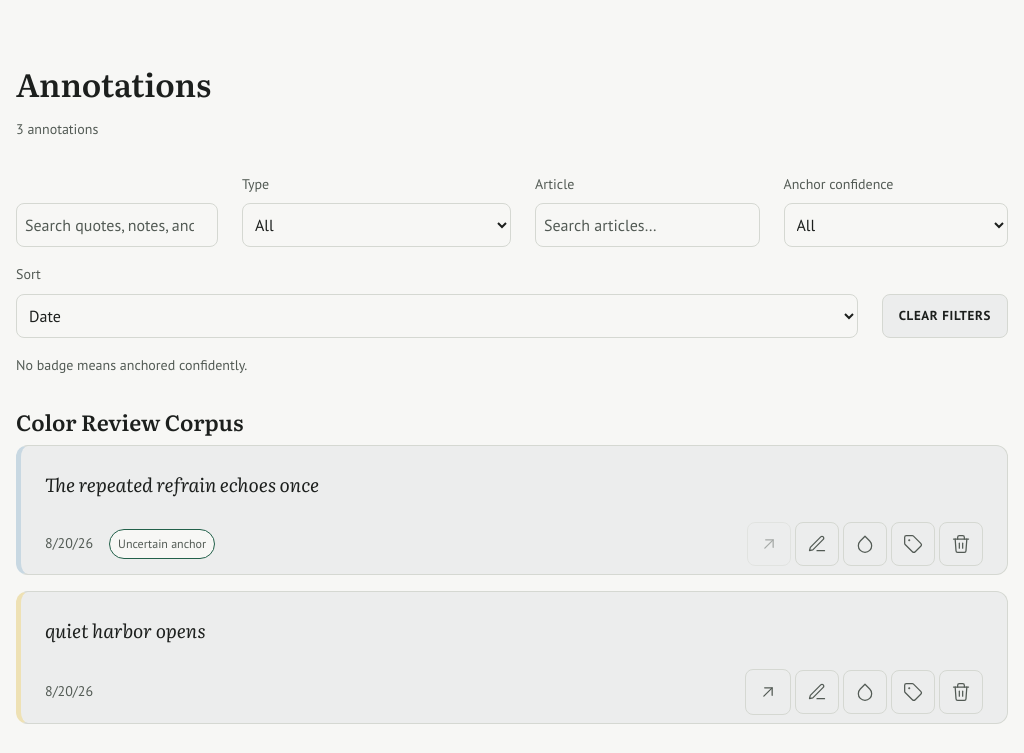
Test: ReviewView highlight colors (issue #119) › Change color opens the SAME slot-pills row: five action buttons, no radios, no current state
What coordinates should you click on to do the following:
click the button named "Change color, currently Blue: The repeated refrain echoes on"
I would click on:
 (865, 544)
Its box is [843,522,887,566].
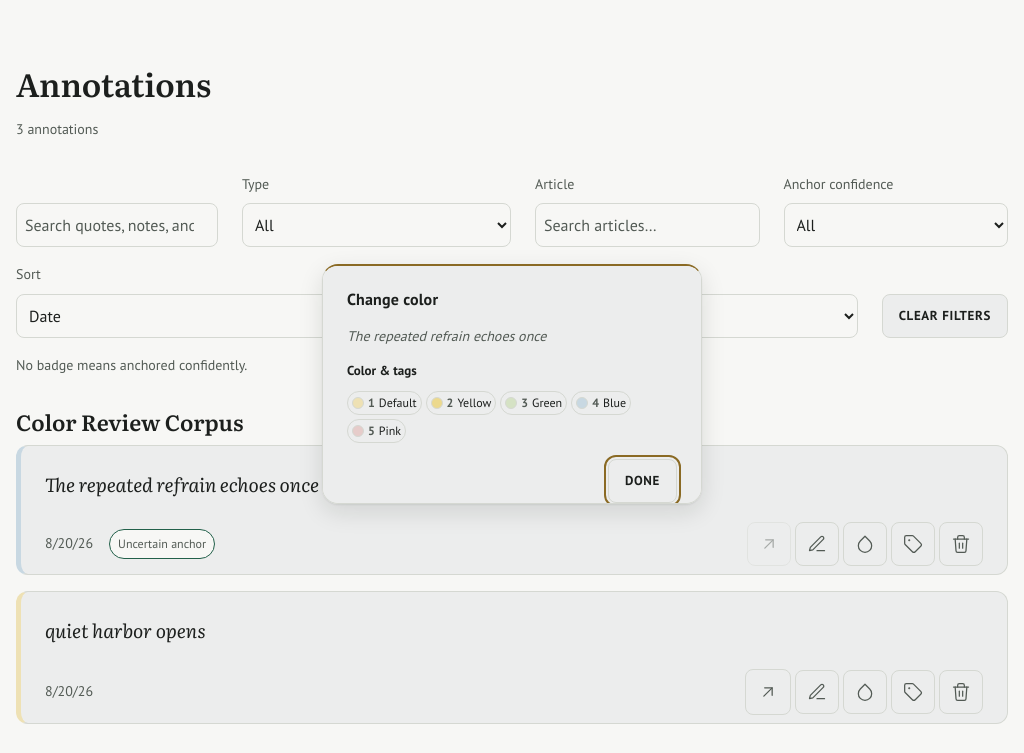
Expected: the text "Color & tags" is shown, [347,362,417,381]
